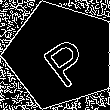P_NW: (30, 23, 92, 87)
